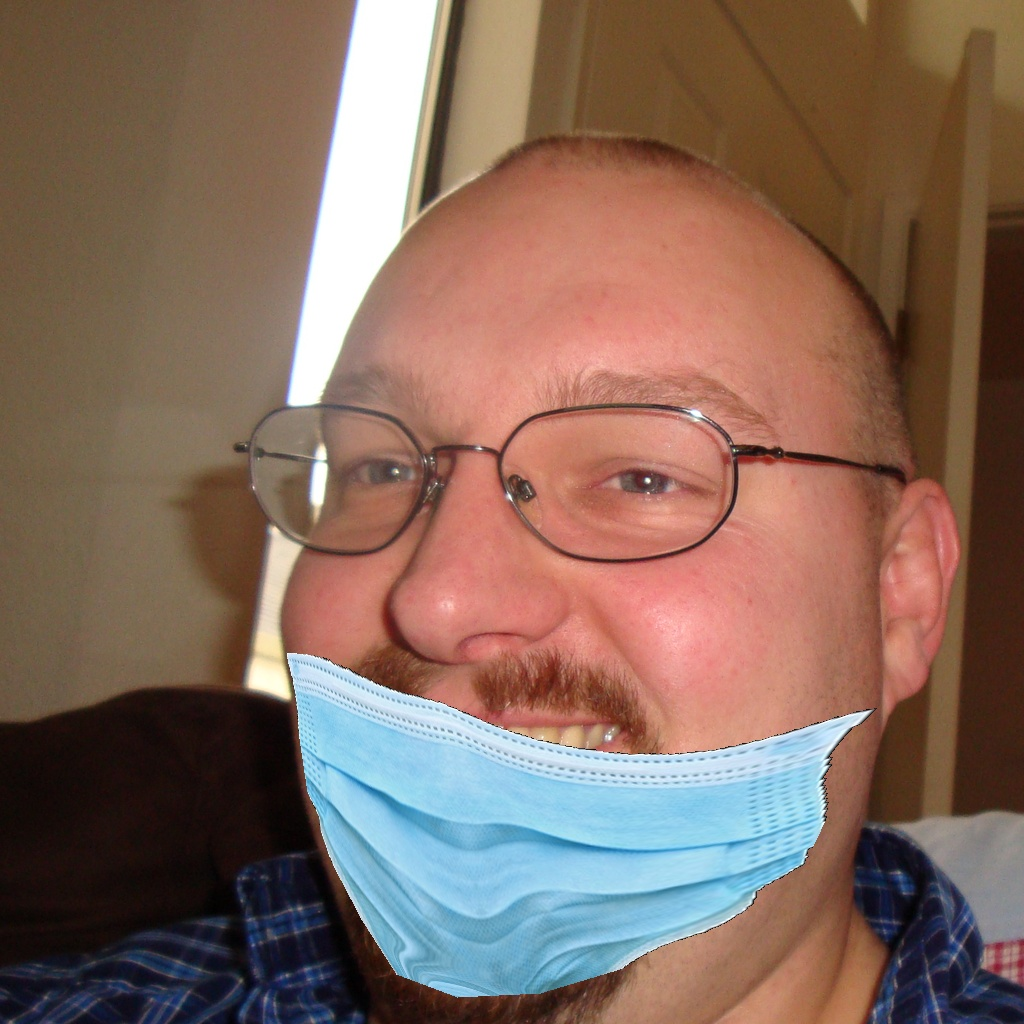mask_weared_incorrect: (214, 368, 904, 1010)
